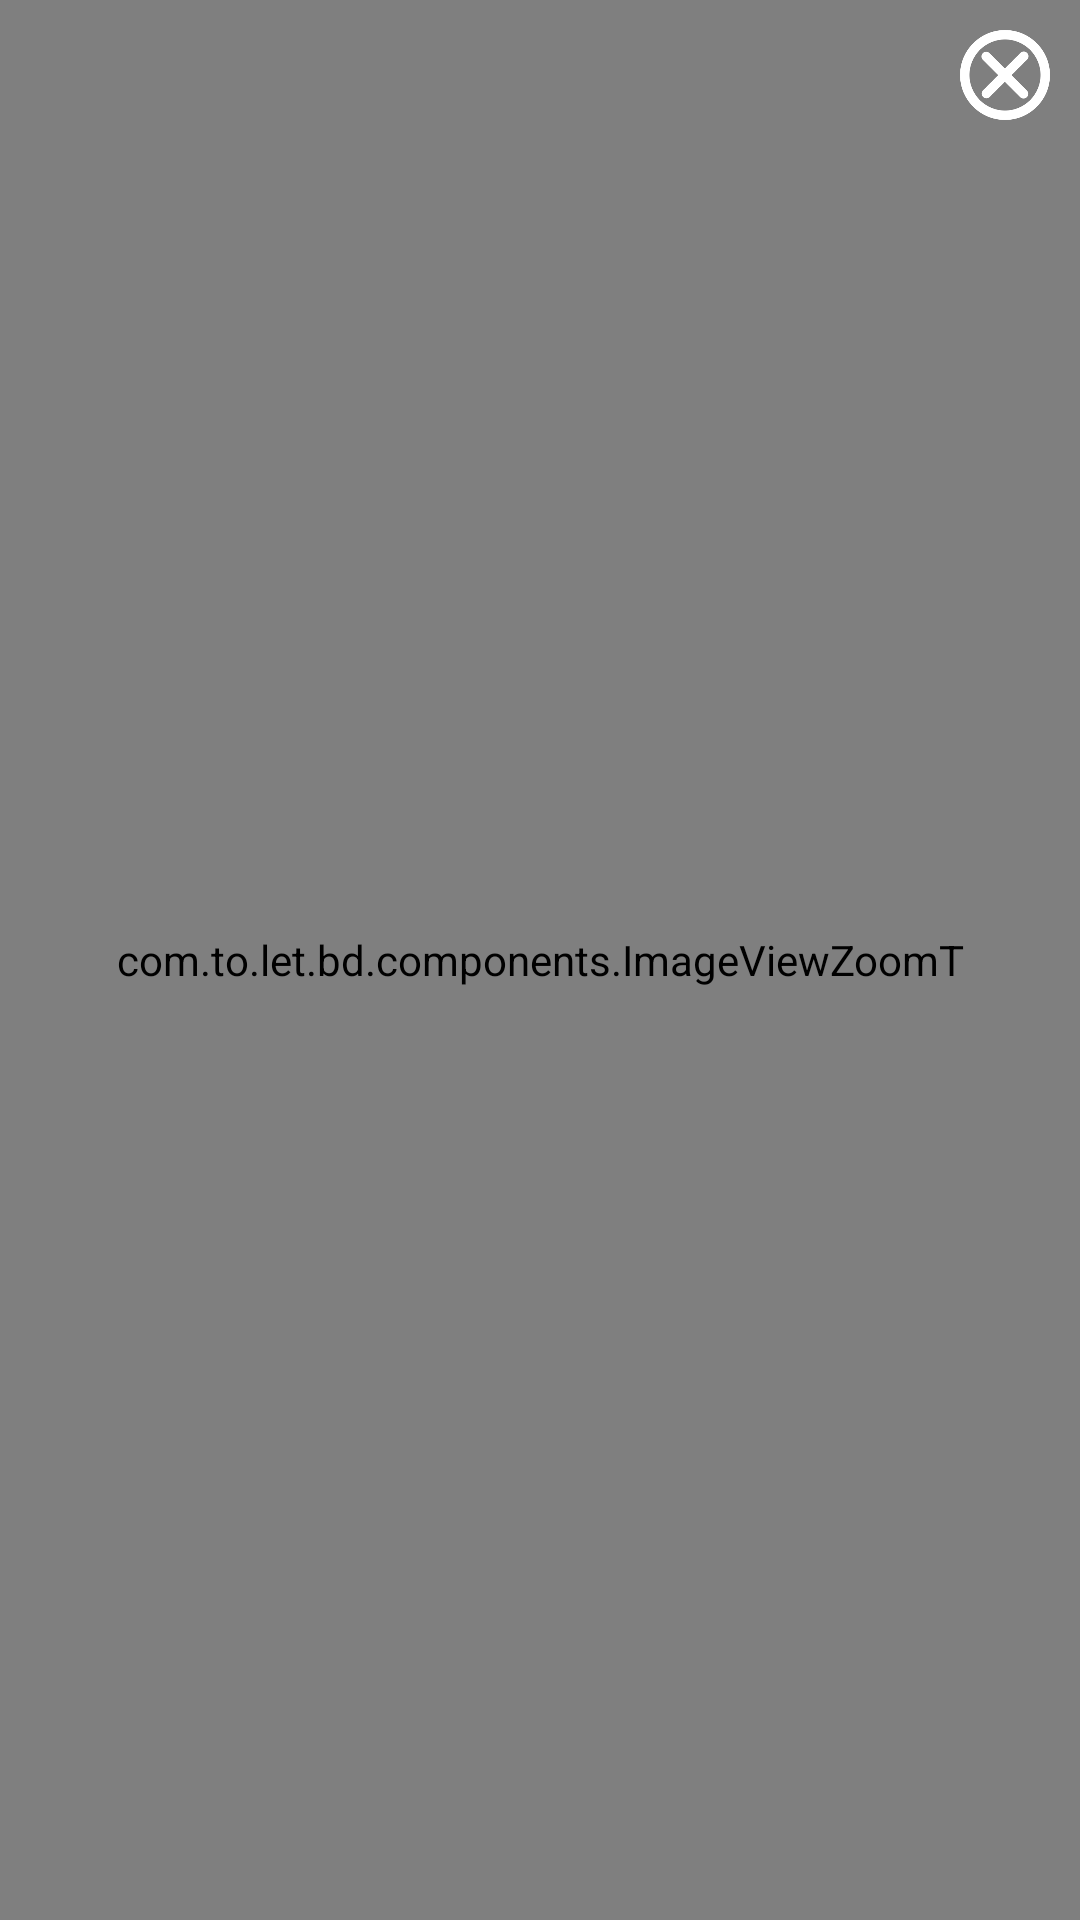

Where to tap for icons on this 1080x1920 app screen, as [x,y]:
cross: [1005,75]
